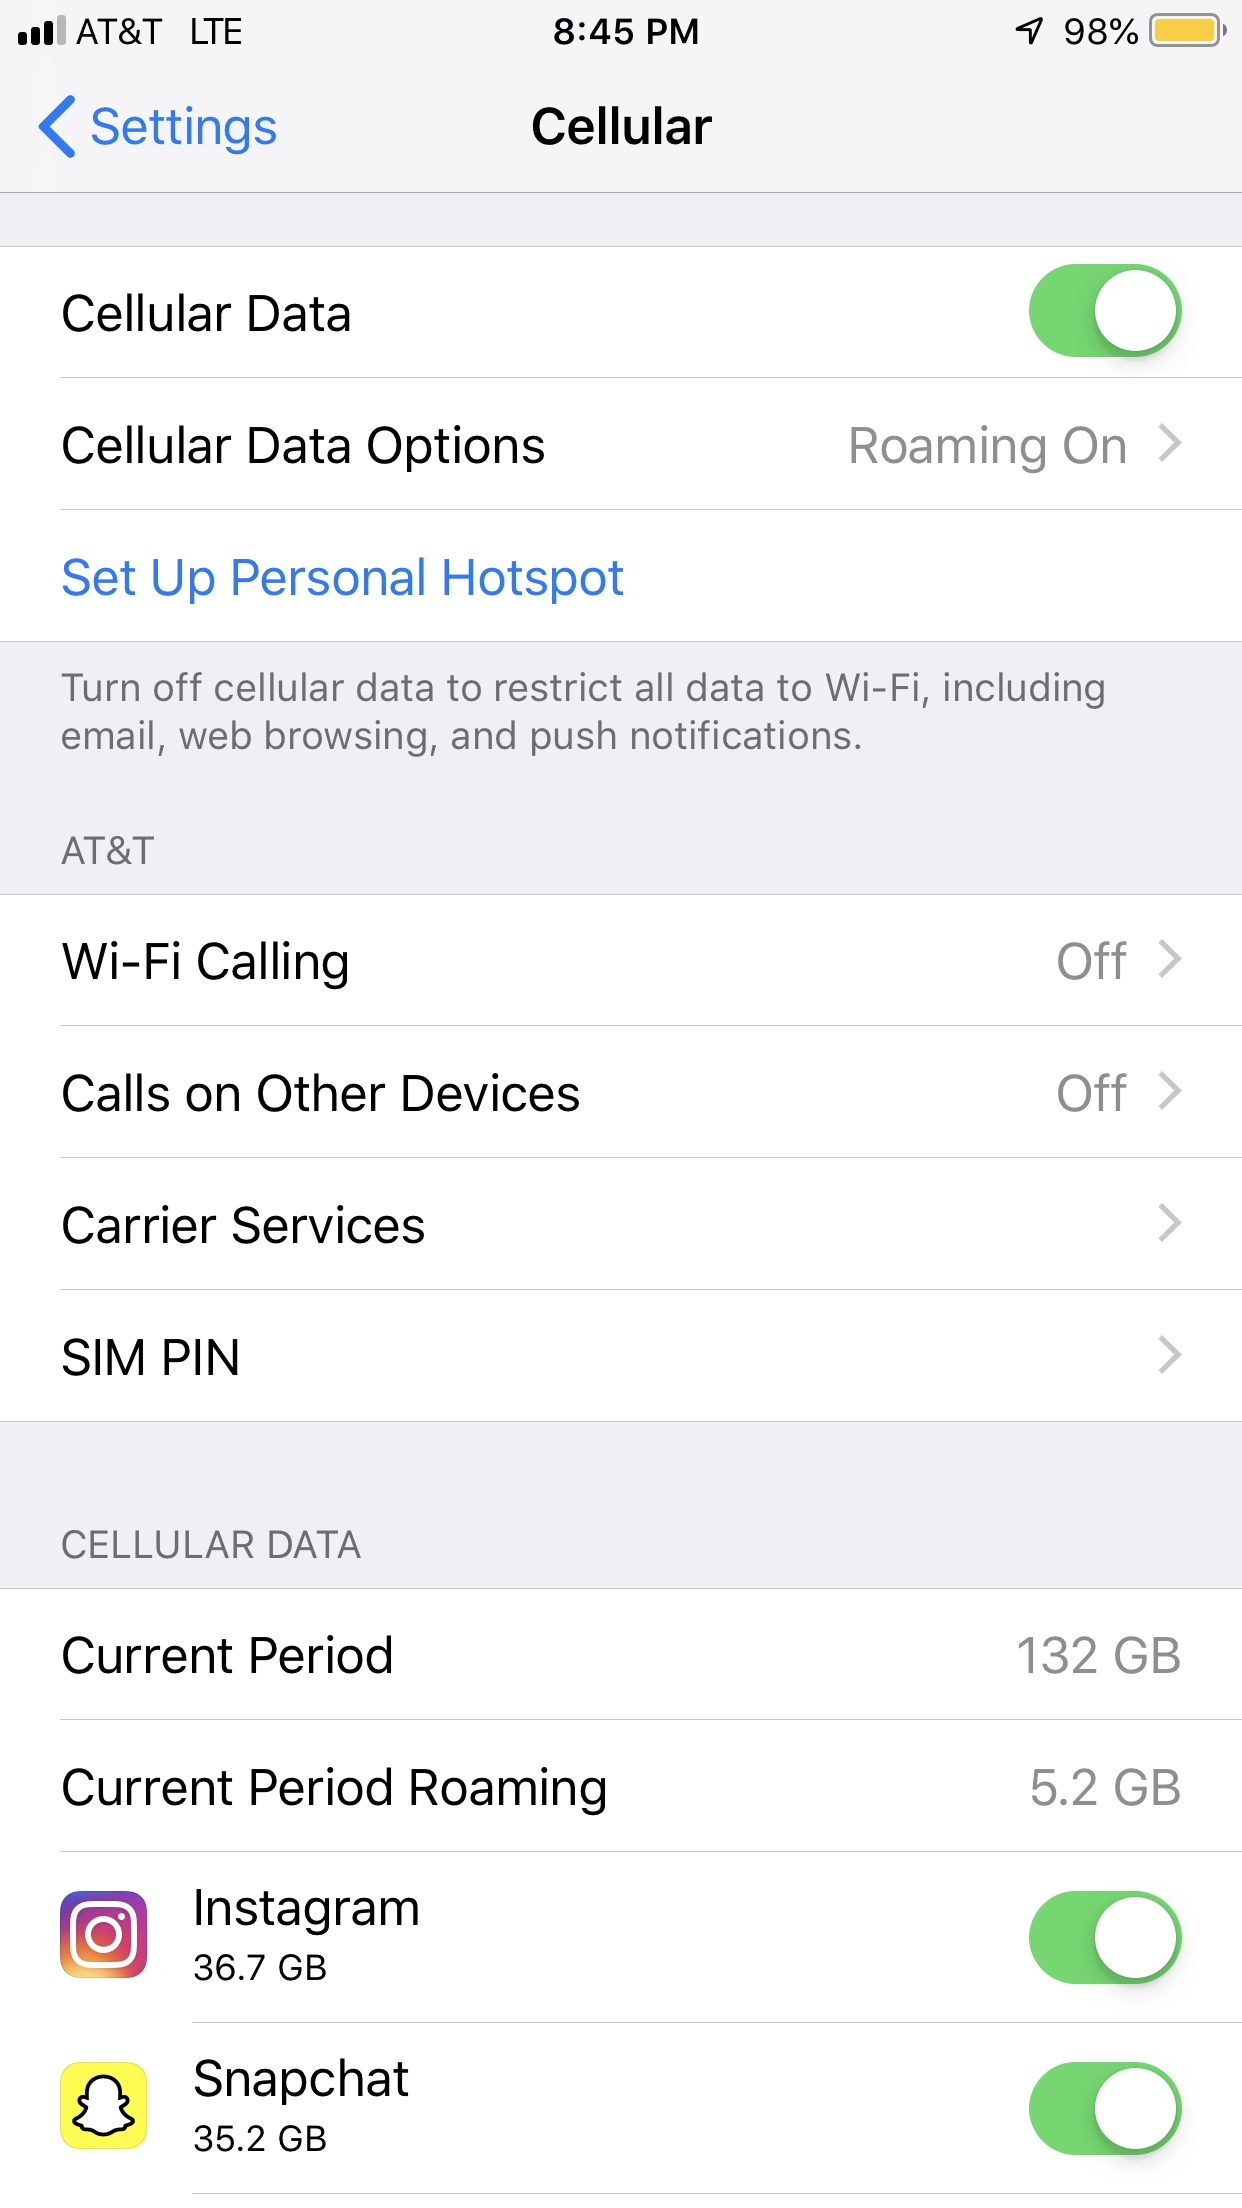Icon: (39, 96, 77, 161), (1159, 1335, 1183, 1375), (1159, 1203, 1183, 1244), (1159, 1071, 1183, 1112), (1159, 939, 1183, 980), (1159, 423, 1183, 464)
Image: (61, 1891, 149, 1979), (61, 2062, 149, 2150)
Switch: (1030, 1890, 1183, 1985), (1030, 264, 1183, 359), (1030, 2062, 1183, 2156)
Text: (62, 672, 1106, 760), (64, 558, 625, 607), (64, 1767, 607, 1817), (62, 425, 544, 475), (64, 1072, 579, 1113), (64, 1206, 425, 1247), (64, 1633, 393, 1676), (64, 942, 349, 990), (851, 425, 1127, 475), (64, 293, 350, 334), (196, 1888, 419, 1937), (196, 2056, 409, 2105), (93, 106, 278, 156), (62, 1529, 362, 1559), (532, 106, 713, 147), (64, 1338, 240, 1377), (1019, 1635, 1181, 1676), (1031, 1767, 1181, 1808), (194, 2125, 328, 2153), (193, 1955, 328, 1982), (1054, 934, 1128, 983), (1054, 1068, 1131, 1112), (62, 836, 156, 866)
UpperTaskBar: (2, 2, 1242, 49)
